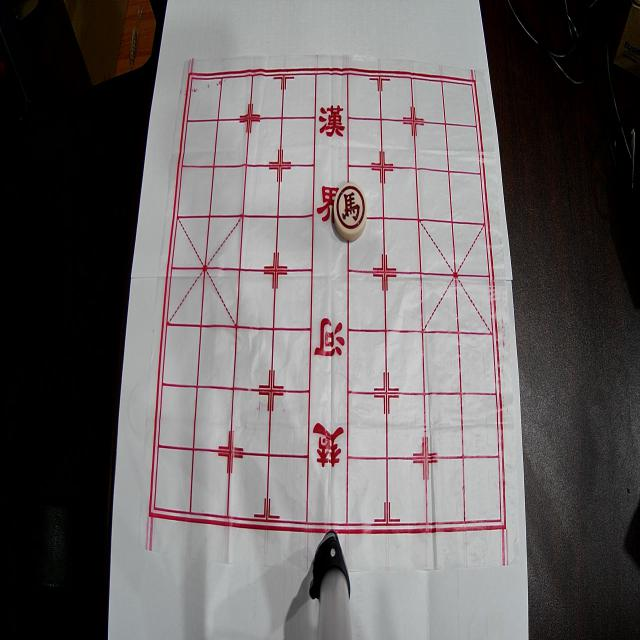red-horse: (334, 183, 366, 241)
